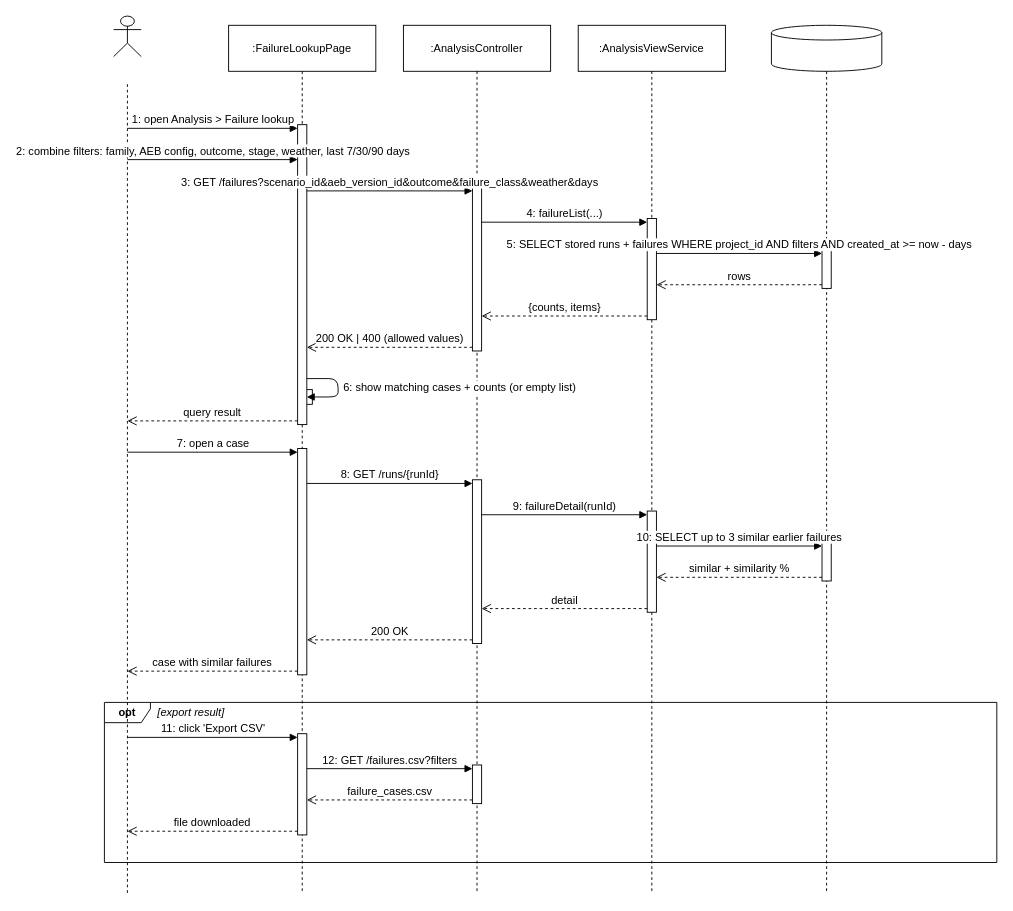
Some shapes in this 1013 by 911 pixel diagram are drawn without their labels. Each missing label, with the centre of its shape:
Engineer / Reviewer / Experiencer: (127,36)
MySQL: (826,47)
